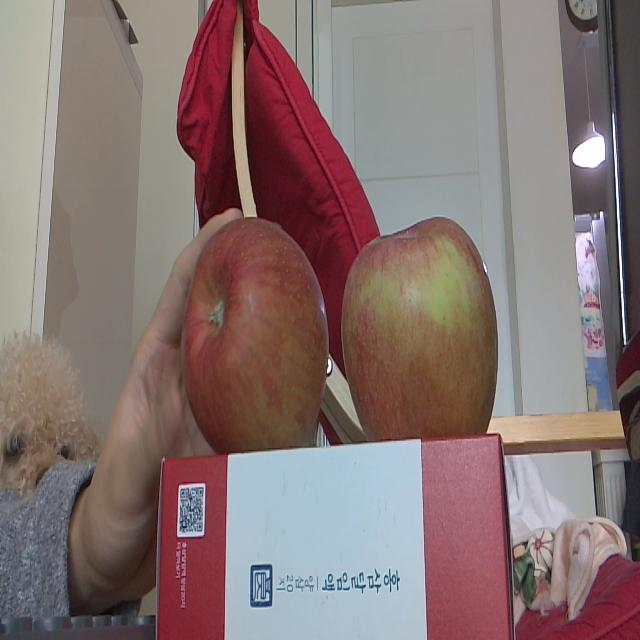apple: (342, 216, 497, 436), (182, 222, 330, 448)
